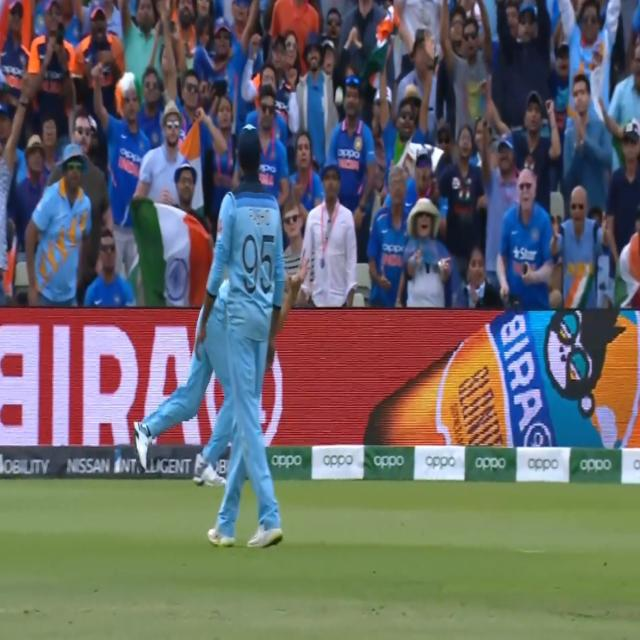ball: (332, 84, 346, 110)
